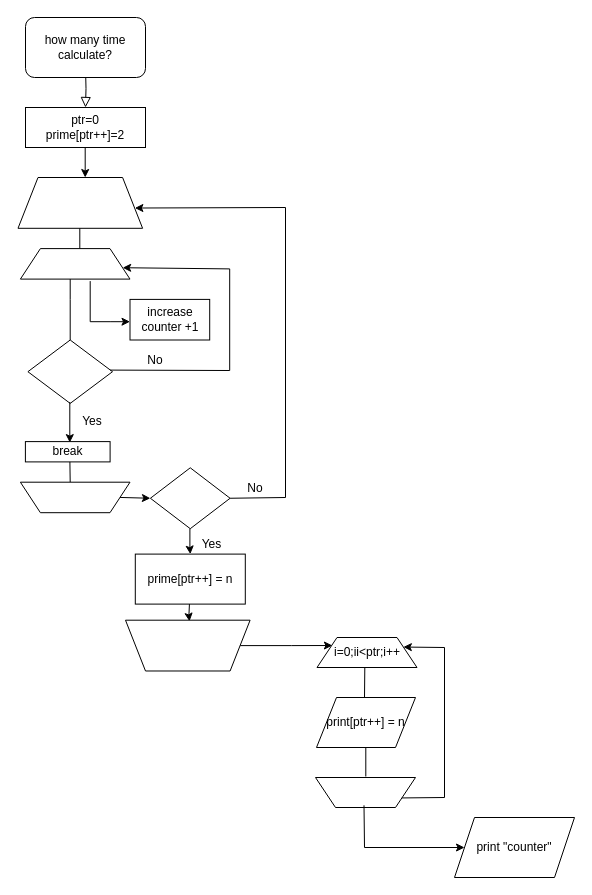
This 592x895 diagram has some shape labels left out. The centre of each missing label's shape, as x and y in pixels:
"i=1;i<ptr;i++" belongs at (x=74, y=263).
"n % prime[i] == 0" belongs at (x=69, y=371).
"n=3 to 1000 ; n+=2" belongs at (x=80, y=202).
"ptr == i" belongs at (x=189, y=498).
